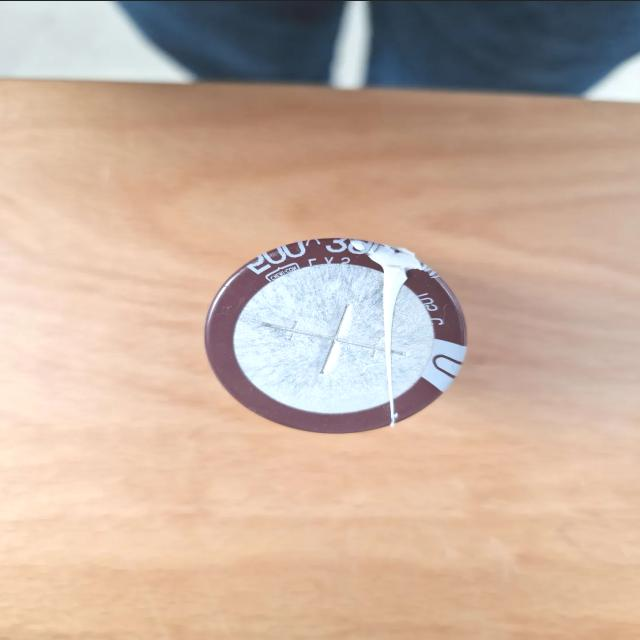C: (206, 238, 467, 432)
